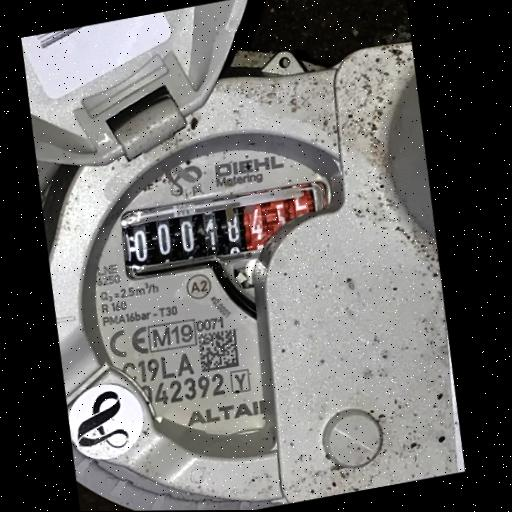0: (172, 214, 206, 262), (123, 222, 157, 269), (147, 218, 181, 265)
1: (196, 209, 230, 257)
2: (284, 188, 318, 220)
4: (240, 201, 270, 250)
5: (260, 198, 294, 241)
8: (219, 206, 250, 254)
border_water_meter_number: (113, 175, 338, 286)
